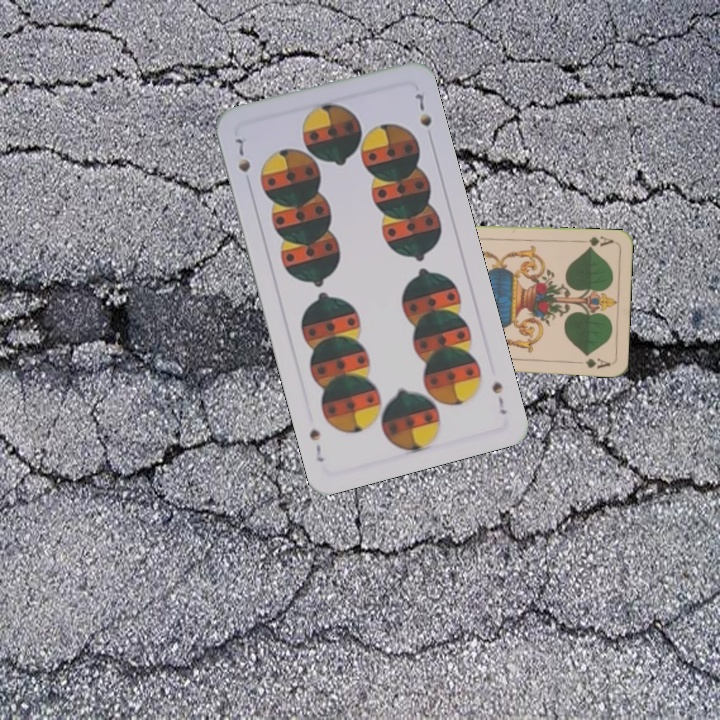GA: (576, 232, 616, 251)
S7: (231, 134, 253, 175), (488, 376, 510, 417)
